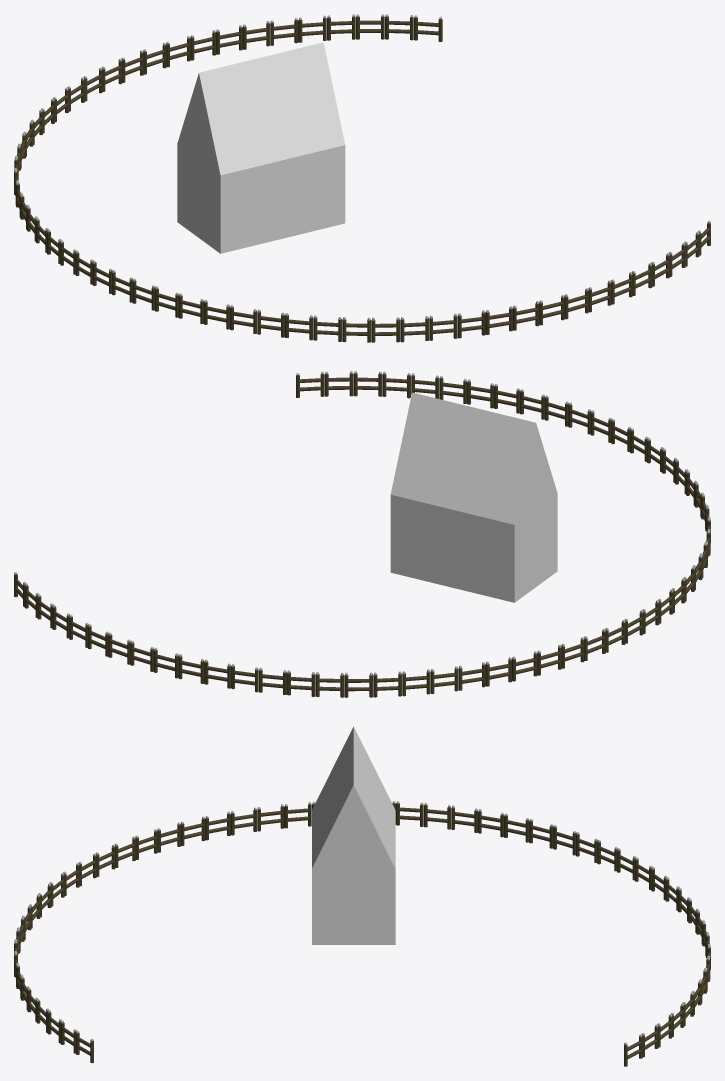
Rendered from 3Loc.fbx.
3 views of the same model, one above another, from view 1: azimuth 30°, elevation 25°; view 2: azimuth 150°, elevation 25°; view 3: azimuth 270°, elevation 25° (orthographic). The views are drawn at different scales.
Visible parts, largest first — view 1: Cube, Cube.006; view 2: Cube, Cube.006; view 3: Cube, Cube.006.
Boxes of the visible parts, <box> form: Cube: <box>177,42,345,253</box>; Cube.006: <box>14,14,710,342</box>; Cube: <box>390,392,557,602</box>; Cube.006: <box>14,371,710,697</box>; Cube: <box>312,726,395,944</box>; Cube.006: <box>14,801,710,1066</box>.
Size of the model in its own units: 4366 by 1336 by 5283.
